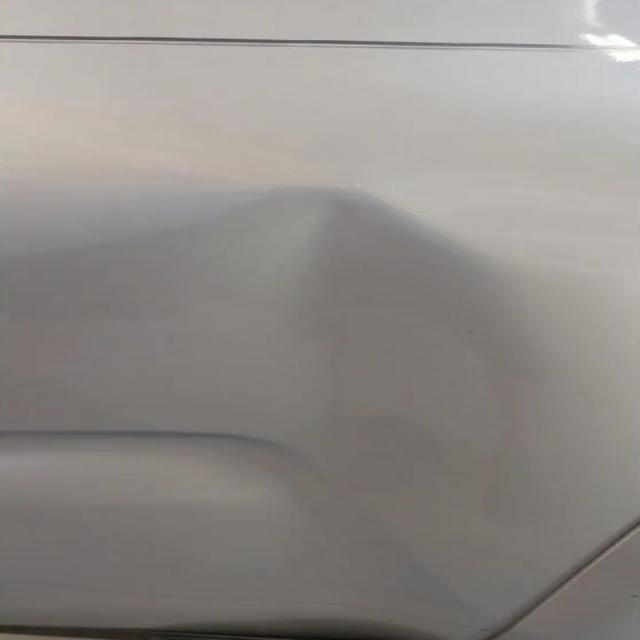dents: (8, 178, 616, 622)
